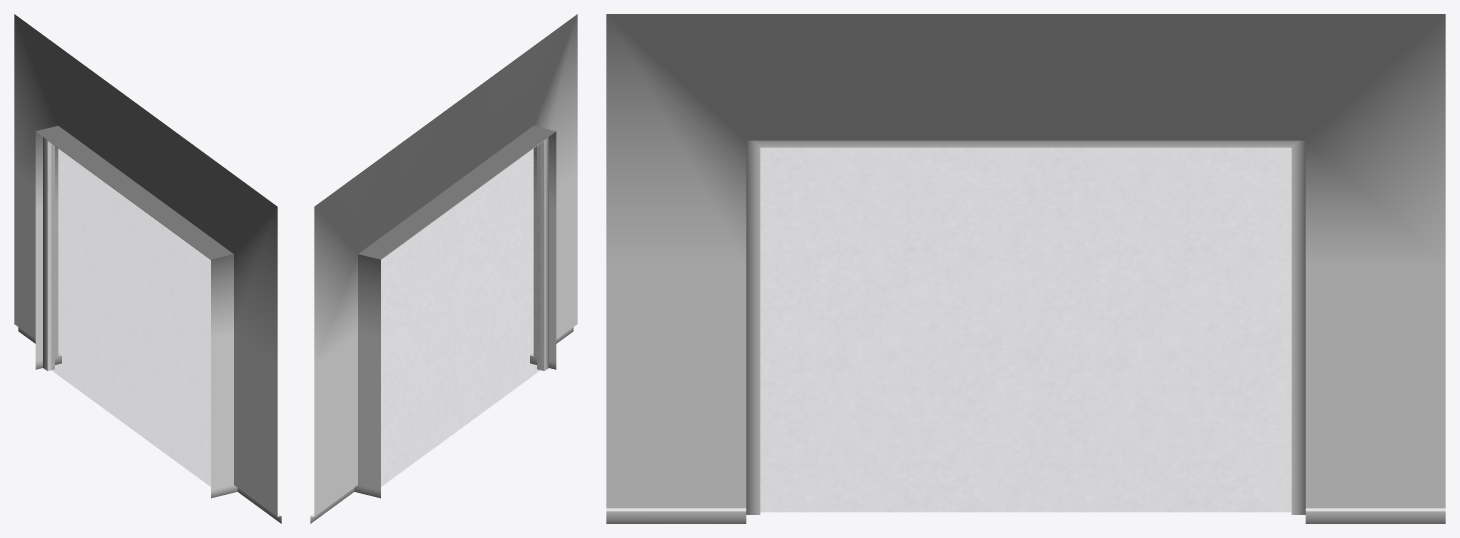
Rendered from Wall_01_Window.fbx.
3 views of the same model, side by side, from view 1: azimuth 30°, elevation 25°; view 2: azimuth 150°, elevation 25°; view 3: azimuth 270°, elevation 25° (orthographic). The views are drawn at different scales.
Parts seen in each view (by area): view 1: Plane.005; view 2: Plane.005; view 3: Plane.005.
Boxes of the visible parts, left/top/right/bottom form: Plane.005: left=14, top=14, right=281, bottom=523; Plane.005: left=310, top=14, right=577, bottom=523; Plane.005: left=606, top=14, right=1445, bottom=523.
Size of the model in its own units: 35 by 400 by 600.
